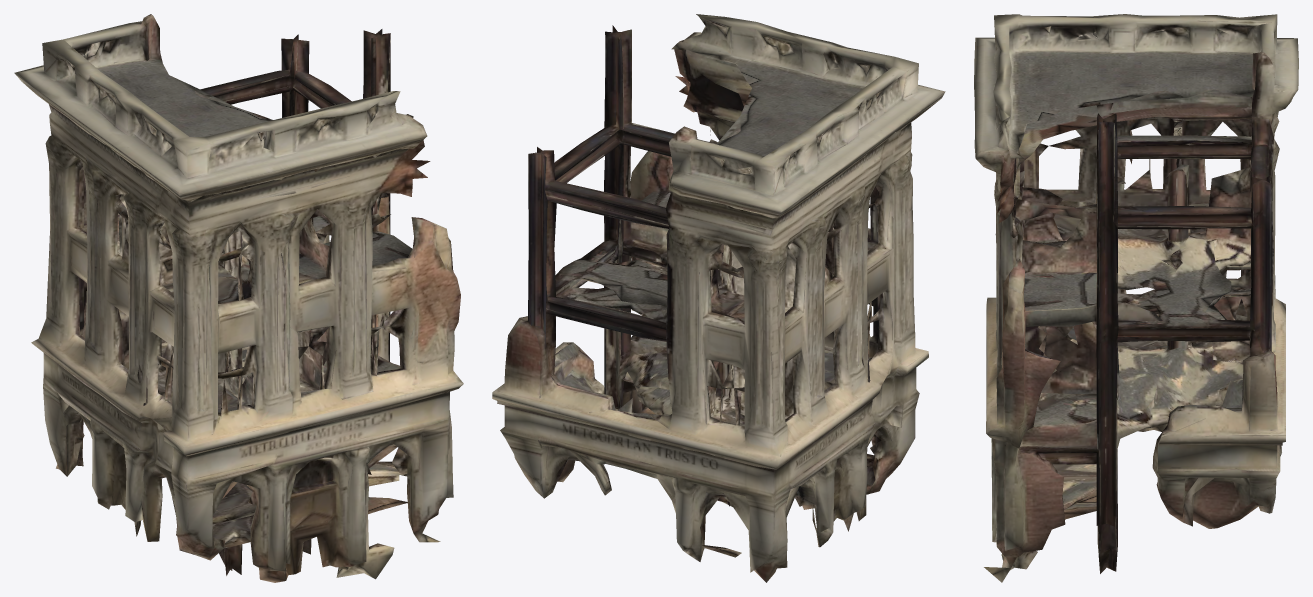
The model's file is chunk_opt.glb.
3 views of the same model, side by side, from view 1: azimuth 30°, elevation 25°; view 2: azimuth 150°, elevation 25°; view 3: azimuth 270°, elevation 25° (orthographic). The views are drawn at different scales.
Visible parts, largest first — view 1: Mesh1.0; view 2: Mesh1.0; view 3: Mesh1.0.
Boxes of the visible parts, <box> form: Mesh1.0: <box>14,14,463,582</box>; Mesh1.0: <box>492,14,945,582</box>; Mesh1.0: <box>974,14,1298,582</box>.
Size of the model in its own units: 15.47 by 25 by 14.84.
Materials: 1 (1 with a texture image).
